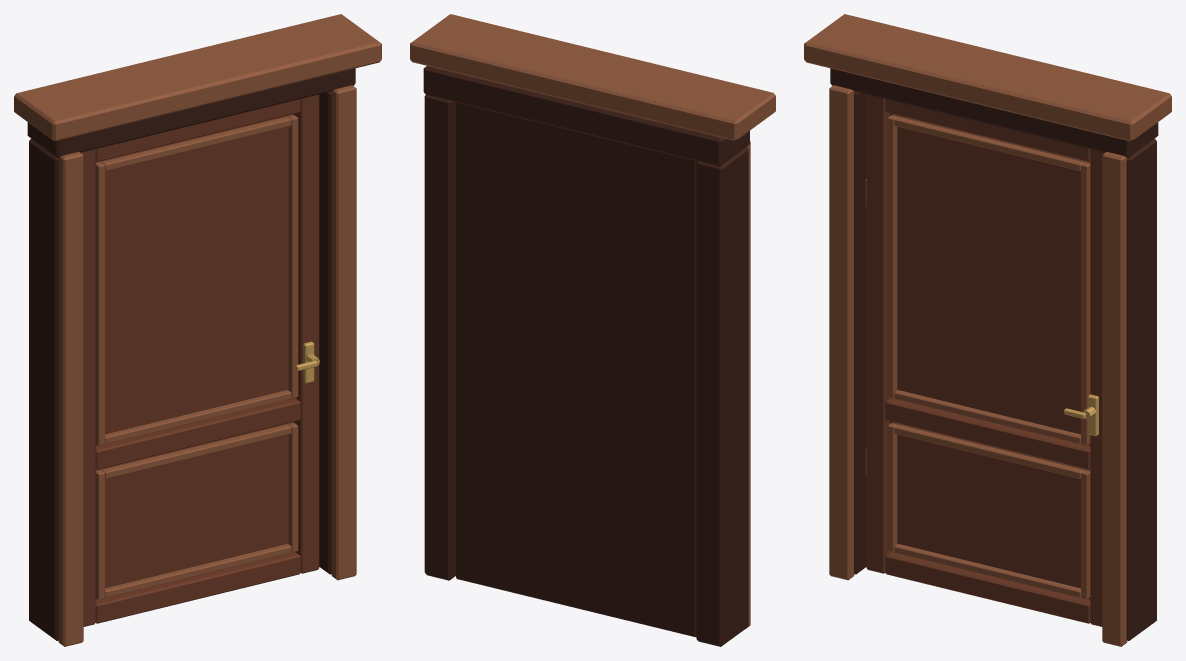
The model's file is door_18.glb.
3 views of the same model, side by side, from view 1: azimuth 30°, elevation 25°; view 2: azimuth 150°, elevation 25°; view 3: azimuth 330°, elevation 25° (orthographic).
Visible parts, largest first — view 1: Panel_0_1_Field, Panel_0_0_Field, Cornice, Jamb__1, Jamb_moulding_1, Jamb_moulding__1, Leaf_stile_0_1, Jamb_1, Leaf_stile_0__1, Lintel, Leaf_crossrail_0_0_048, Leaf_crossrail_0_0_795 (+9 smaller); view 2: Leaf_0, Jamb__1, Cornice, Jamb_1, Lintel, Jamb_moulding__1; view 3: Panel_0_1_Field, Panel_0_0_Field, Cornice, Jamb_1, Jamb_moulding__1, Jamb_moulding_1, Leaf_stile_0__1, Jamb__1, Leaf_stile_0_1, Lintel, Leaf_crossrail_0_0_048, Leaf_crossrail_0_0_795 (+9 smaller).
Boxes of the visible parts, box(x1,y1,x2,y2) form: Panel_0_1_Field: box(95, 114, 293, 434); Panel_0_0_Field: box(95, 422, 293, 588); Cornice: box(14, 14, 381, 141); Jamb__1: box(29, 138, 59, 640); Jamb_moulding_1: box(331, 85, 356, 580); Jamb_moulding__1: box(58, 152, 83, 646); Leaf_stile_0_1: box(295, 94, 319, 573); Jamb_1: box(319, 91, 331, 574); Leaf_stile_0__1: box(81, 149, 95, 626); Lintel: box(27, 68, 355, 157); Leaf_crossrail_0_0_048: box(95, 552, 300, 623); Leaf_crossrail_0_0_795: box(95, 398, 300, 469); Leaf_0: box(456, 102, 697, 636); Jamb__1: box(696, 147, 748, 646); Cornice: box(410, 14, 775, 140); Jamb_1: box(424, 95, 455, 580); Lintel: box(423, 66, 749, 166); Jamb_moulding__1: box(747, 141, 750, 627); Panel_0_1_Field: box(892, 114, 1090, 434); Panel_0_0_Field: box(892, 422, 1090, 588); Cornice: box(804, 14, 1171, 141); Jamb_1: box(1126, 138, 1156, 640); Jamb_moulding__1: box(829, 85, 854, 580); Jamb_moulding_1: box(1102, 152, 1127, 646); Leaf_stile_0__1: box(866, 94, 890, 573); Jamb__1: box(854, 91, 866, 574); Leaf_stile_0_1: box(1090, 149, 1104, 626); Lintel: box(830, 68, 1158, 157); Leaf_crossrail_0_0_048: box(885, 552, 1090, 623); Leaf_crossrail_0_0_795: box(885, 398, 1090, 469).
Size of the model in its own units: 1.67 by 2.6 by 0.37.
